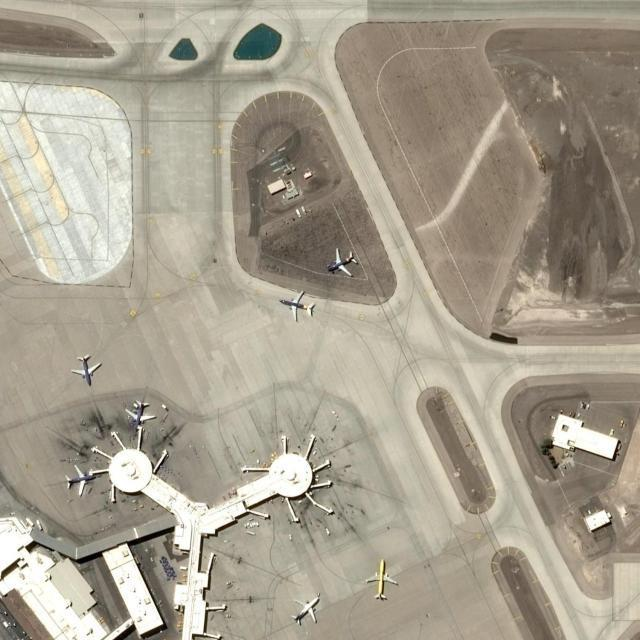Aircraft: (367, 561, 401, 601), (280, 289, 316, 323), (71, 354, 104, 388), (126, 400, 159, 433), (67, 464, 97, 498), (326, 249, 360, 279), (292, 596, 322, 627)
